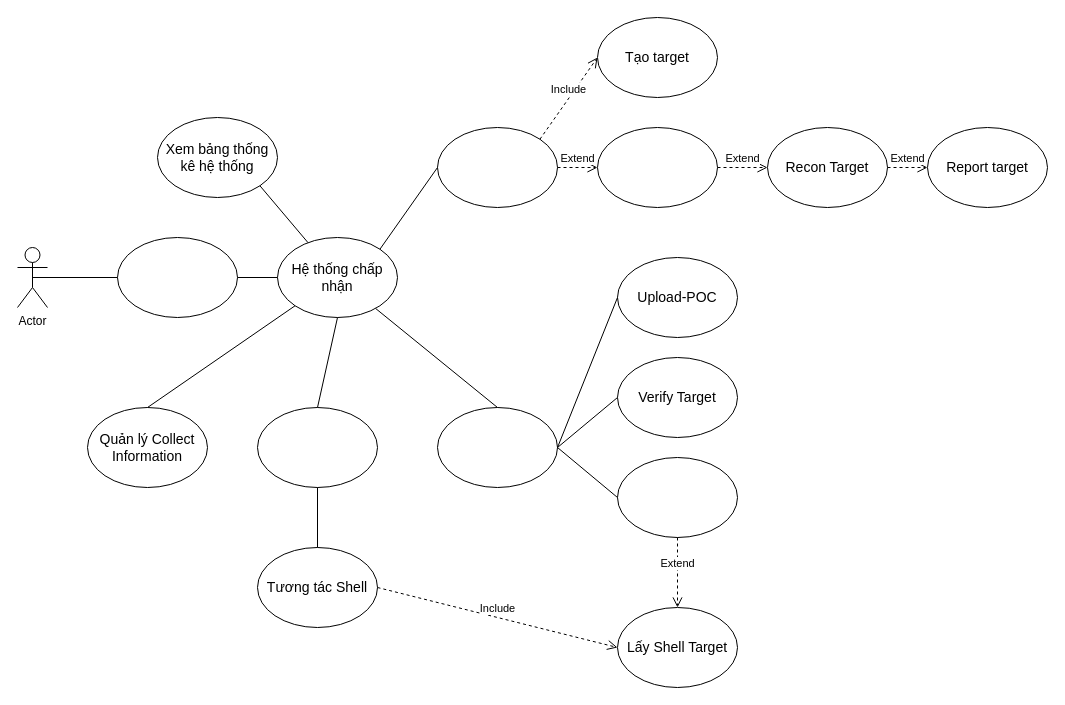
Some shapes in this 1065 by 705 pixel diagram are drawn without their labels. The shapes that lost their labels are listed below. From the top down, each one's centre as x and y in pixels, then its label:
(497,167): Quản lý target
(657,167): Khởi tạo phiên trinh sát
(177,277): Đăng nhập
(317,447): Quản lý Shell
(497,447): Quản lý POCs
(677,497): Attack Target
